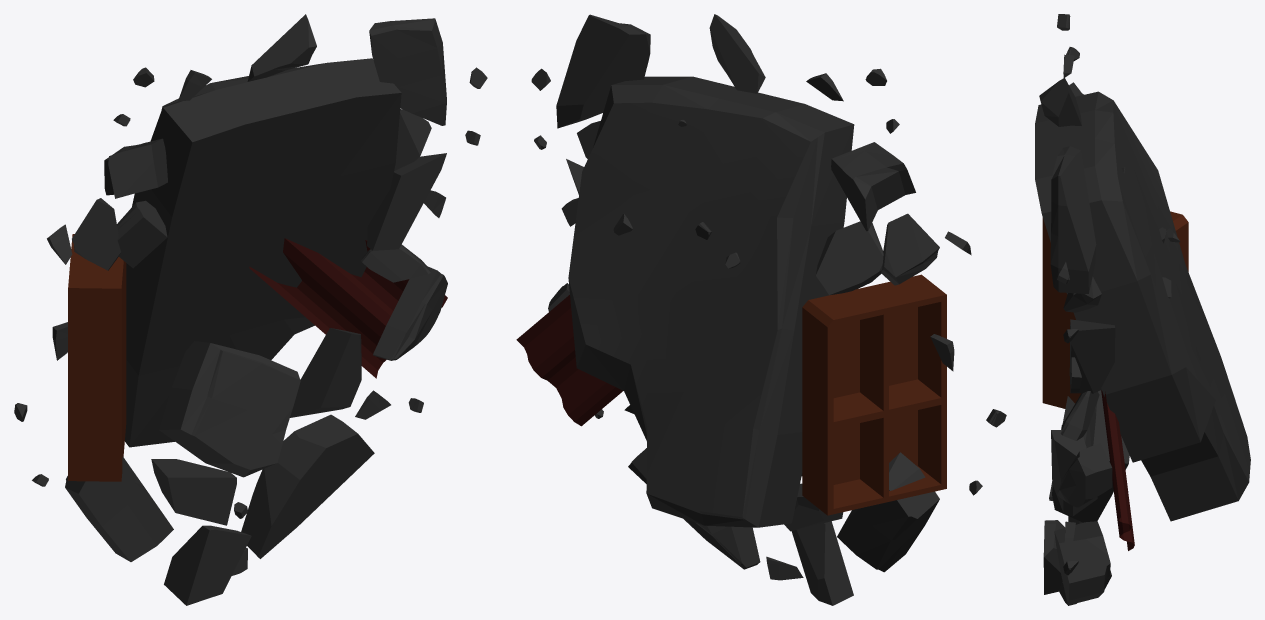
File: P_DébrisGrandSansSol.fbx
3 renders of one model, left to right at view 1: azimuth 30°, elevation 25°; view 2: azimuth 150°, elevation 25°; view 3: azimuth 270°, elevation 25°, orthographic. The views are drawn at different scales.
Parts seen in each view (by area): view 1: P_DébrisGrandSansSol; view 2: P_DébrisGrandSansSol; view 3: P_DébrisGrandSansSol.
Boxes of the visible parts, bbox=[...] form: P_DébrisGrandSansSol: bbox=[14, 14, 487, 605]; P_DébrisGrandSansSol: bbox=[516, 14, 1006, 605]; P_DébrisGrandSansSol: bbox=[1035, 14, 1250, 605].
Size of the model in its own units: 326 by 369 by 127.
